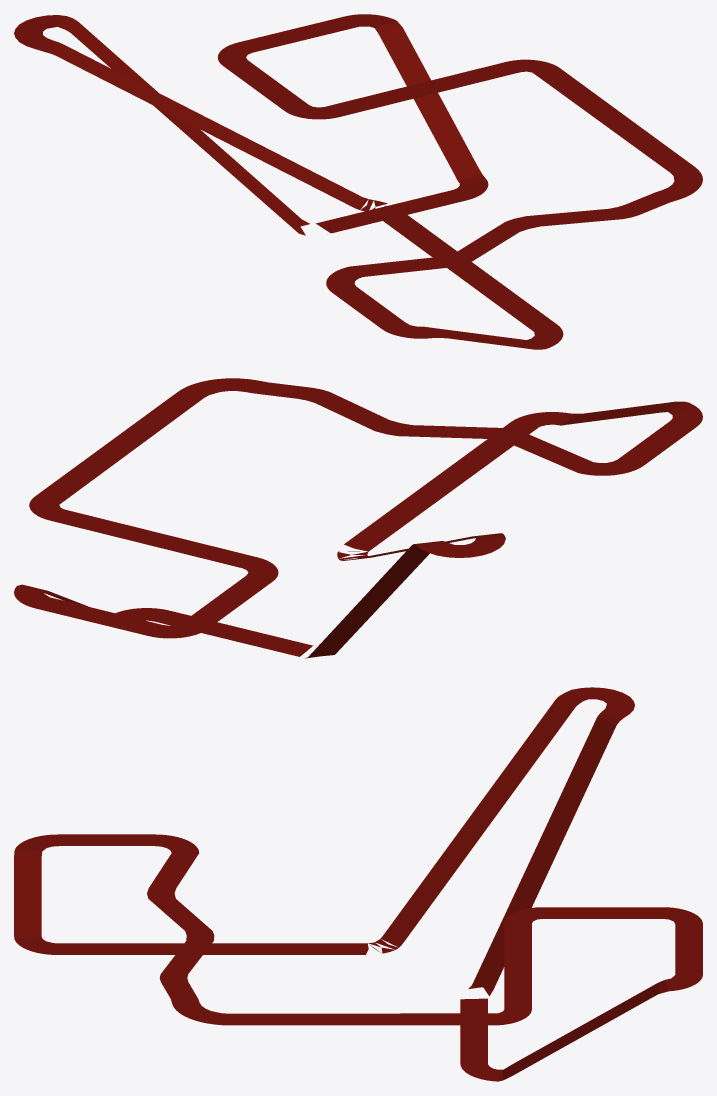
The model's file is track3-7navmesh1.obj.
3 renders of one model, top to bottom at view 1: azimuth 30°, elevation 25°; view 2: azimuth 150°, elevation 25°; view 3: azimuth 270°, elevation 25°, orthographic. The views are drawn at different scales.
Visible parts, largest first — view 1: Plane.001; view 2: Plane.001; view 3: Plane.001.
Part boxes in pixels (box(x1,y1,x2,y2)): Plane.001: box(14, 14, 702, 349); Plane.001: box(14, 378, 702, 658); Plane.001: box(14, 687, 702, 1081).
Size of the model in its own units: 1125 by 441 by 1406.
